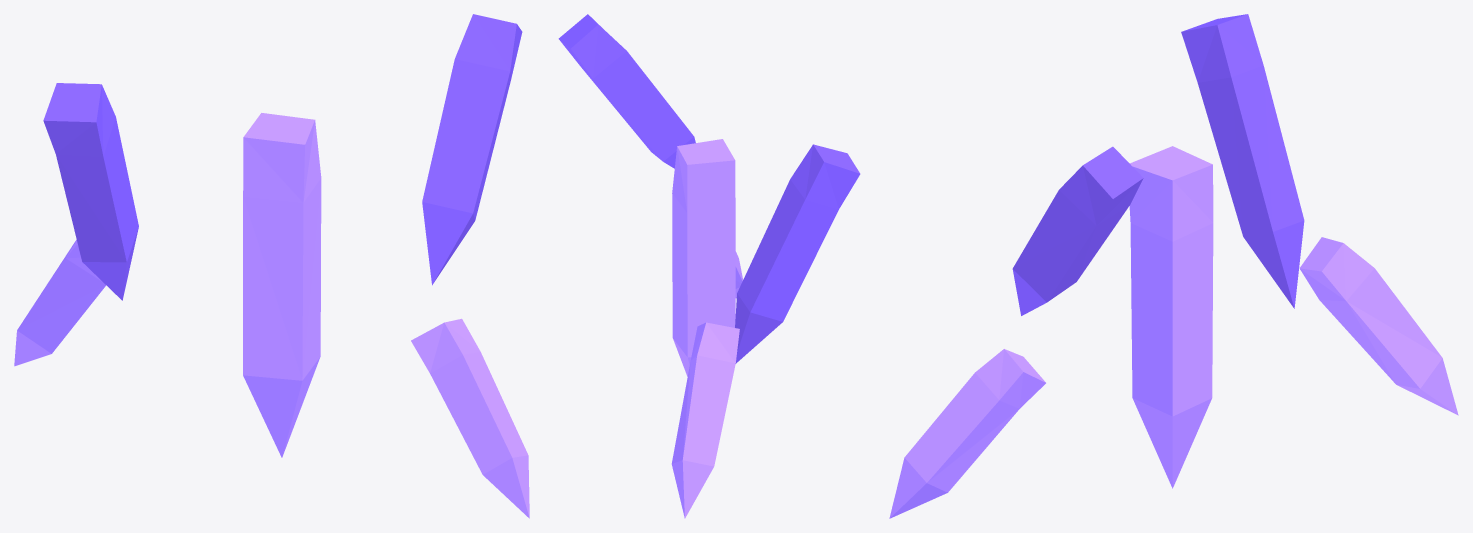
Rendered from dc_shade_drift.glb.
The picture shows the model from 3 angles, left to right: view 1: azimuth 30°, elevation 25°; view 2: azimuth 150°, elevation 25°; view 3: azimuth 270°, elevation 25°; orthographic projection. The views are drawn at different scales.
Visible parts, largest first — view 1: part.dc_shade_drift; view 2: part.dc_shade_drift; view 3: part.dc_shade_drift.
Part boxes in pixels (x1,y1,x2,y2): part.dc_shade_drift: (14, 14, 529, 518); part.dc_shade_drift: (558, 14, 860, 518); part.dc_shade_drift: (889, 14, 1458, 518).
Bounding box in the file's own units: 0.3236 × 0.3104 × 0.3818.
